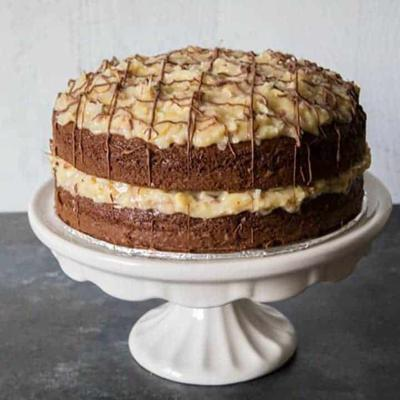cake: (44, 44, 370, 257)
